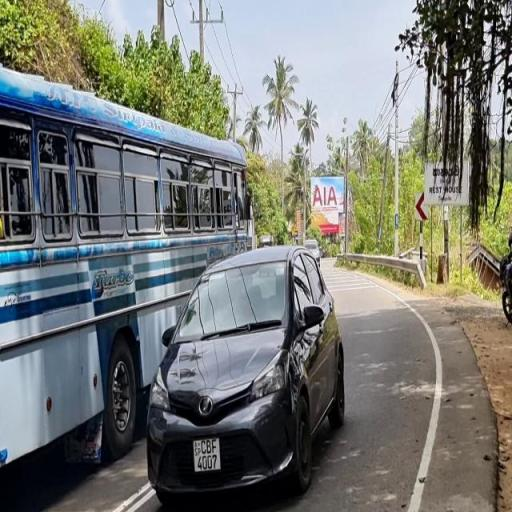double_white_line: (110, 482, 154, 510)
